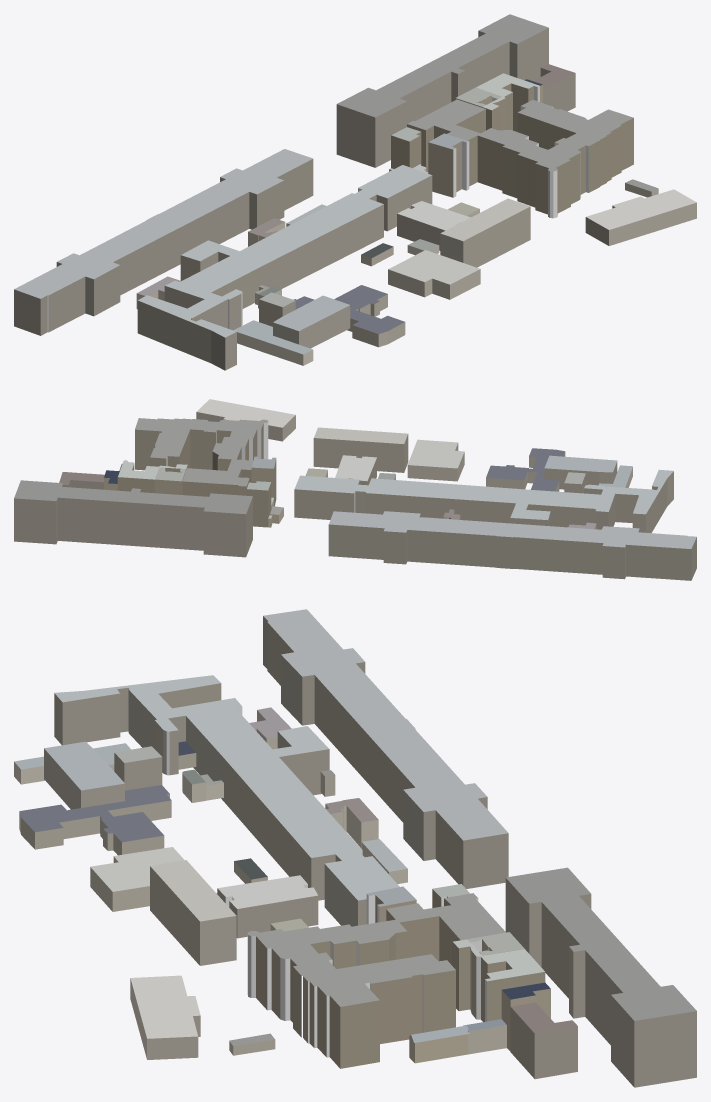
3 renders of one model, top to bottom at view 1: azimuth 30°, elevation 25°; view 2: azimuth 150°, elevation 25°; view 3: azimuth 270°, elevation 25°, orthographic. The views are drawn at different scales.
Parts seen in each view (by area): view 1: tuile; view 2: tuile; view 3: tuile.
Part boxes in pixels (x1=…): tuile: x1=14, y1=14, x2=696, y2=370; tuile: x1=14, y1=399, x2=696, y2=580; tuile: x1=14, y1=609, x2=696, y2=1087.
Size of the model in its own units: 325 by 24.21 by 221.
